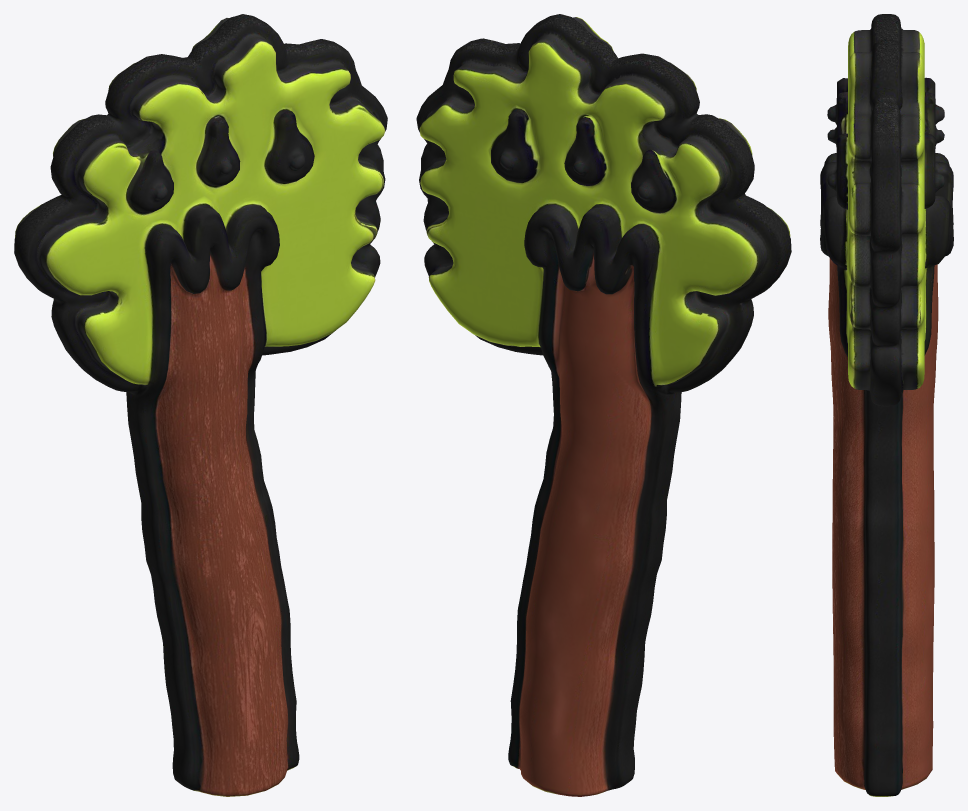
File: cartoon-tree-b.glb
The picture shows the model from 3 angles, left to right: view 1: azimuth 30°, elevation 25°; view 2: azimuth 150°, elevation 25°; view 3: azimuth 270°, elevation 25°; orthographic projection. The views are drawn at different scales.
Visible parts, largest first — view 1: tripo_node_b51ecb55-d423-41b8-bc99-29f12528bb2d; view 2: tripo_node_b51ecb55-d423-41b8-bc99-29f12528bb2d; view 3: tripo_node_b51ecb55-d423-41b8-bc99-29f12528bb2d.
Part boxes in pixels (box(x1,y1,x2,y2)): tripo_node_b51ecb55-d423-41b8-bc99-29f12528bb2d: box(14, 14, 387, 796); tripo_node_b51ecb55-d423-41b8-bc99-29f12528bb2d: box(416, 14, 791, 796); tripo_node_b51ecb55-d423-41b8-bc99-29f12528bb2d: box(820, 14, 953, 796).
Size of the model in its own units: 0.4963 by 0.9774 by 0.1616.
1 material, 1 textured.
